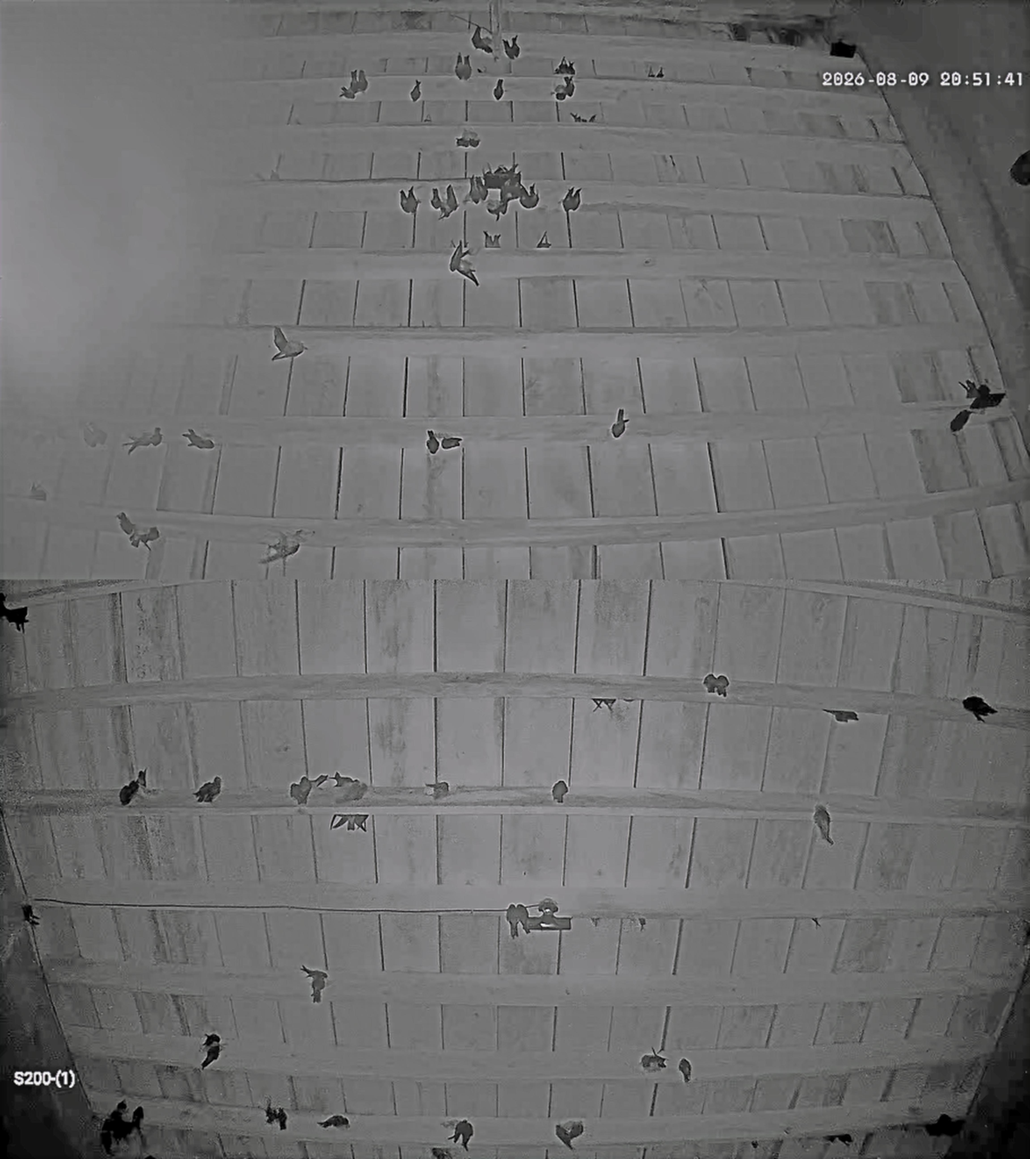swallow bird: (101, 1100, 144, 1154), (117, 512, 160, 550), (259, 533, 301, 571), (449, 241, 479, 286), (272, 326, 307, 360), (100, 1109, 125, 1155), (100, 1108, 124, 1155), (0, 593, 28, 633), (123, 427, 162, 454), (301, 965, 327, 1002), (334, 772, 367, 801), (963, 695, 997, 722), (500, 167, 527, 201), (500, 179, 527, 212), (813, 805, 834, 845), (497, 164, 523, 196), (505, 904, 529, 938), (499, 179, 523, 213), (555, 1121, 583, 1149), (290, 775, 314, 806), (194, 776, 221, 803), (130, 526, 160, 550), (451, 1119, 473, 1151), (464, 174, 487, 203), (331, 814, 368, 832), (183, 428, 214, 449), (201, 1034, 220, 1068), (82, 422, 107, 447), (471, 26, 493, 54), (266, 1100, 286, 1130), (703, 673, 728, 697), (442, 184, 459, 218), (469, 175, 488, 204), (119, 779, 139, 806), (773, 28, 803, 46), (400, 187, 419, 215), (561, 187, 581, 213), (486, 199, 508, 222), (642, 1051, 666, 1072), (950, 409, 971, 433), (519, 184, 539, 209), (117, 512, 136, 538), (555, 75, 574, 101), (611, 409, 627, 438), (455, 54, 472, 81), (515, 904, 530, 934), (502, 34, 520, 59), (824, 710, 858, 723), (536, 898, 559, 917), (551, 780, 569, 804), (425, 781, 449, 799), (319, 1114, 349, 1128), (554, 55, 575, 75), (21, 904, 39, 927), (456, 131, 480, 148), (351, 69, 368, 93), (556, 1124, 572, 1149), (332, 770, 353, 788), (677, 1058, 692, 1083), (824, 1133, 852, 1146), (130, 1106, 144, 1132), (729, 23, 748, 42), (254, 169, 281, 182), (592, 698, 616, 712), (30, 482, 47, 501), (426, 430, 439, 454), (431, 187, 443, 213), (495, 162, 517, 176), (962, 380, 978, 399), (275, 1107, 287, 1131), (331, 814, 349, 830), (570, 112, 596, 123), (441, 436, 461, 450), (266, 1099, 277, 1124), (554, 56, 568, 75), (203, 1033, 220, 1048), (112, 1100, 127, 1117), (536, 231, 551, 248), (409, 79, 420, 102), (349, 70, 360, 93), (431, 1147, 452, 1159), (136, 769, 147, 791), (565, 76, 575, 98), (554, 86, 568, 101), (341, 86, 357, 99), (649, 65, 664, 78), (493, 78, 502, 99), (512, 36, 521, 57), (315, 774, 329, 787), (464, 54, 471, 80), (571, 112, 587, 123), (637, 916, 646, 931), (566, 61, 575, 76), (423, 109, 432, 123), (590, 916, 600, 928), (811, 917, 821, 928), (482, 168, 493, 178), (655, 67, 664, 78), (618, 697, 635, 702), (648, 64, 654, 78), (751, 1140, 759, 1150), (476, 66, 485, 74), (587, 114, 595, 122)
